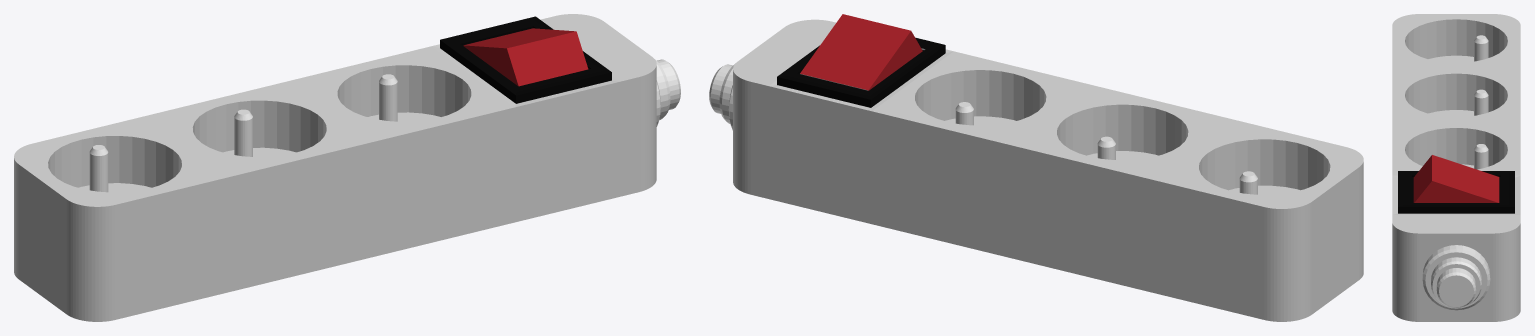
Rendered from multiprise.fbx.
The picture shows the model from 3 angles, left to right: view 1: azimuth 30°, elevation 25°; view 2: azimuth 150°, elevation 25°; view 3: azimuth 270°, elevation 25°; orthographic projection. The views are drawn at different scales.
Visible parts, largest first — view 1: Cube.005, Cylinder; view 2: Cube.005, Cylinder; view 3: Cube.005, Cylinder.
Boxes of the visible parts, box(x1,y1,x2,y2) form: Cube.005: box(14, 14, 656, 321); Cylinder: box(655, 59, 680, 126); Cube.005: box(733, 14, 1363, 321); Cylinder: box(709, 64, 734, 130); Cube.005: box(1392, 14, 1520, 321); Cylinder: box(1422, 245, 1490, 310).
Bounding box in the file's own units: 866 × 199 × 200.
